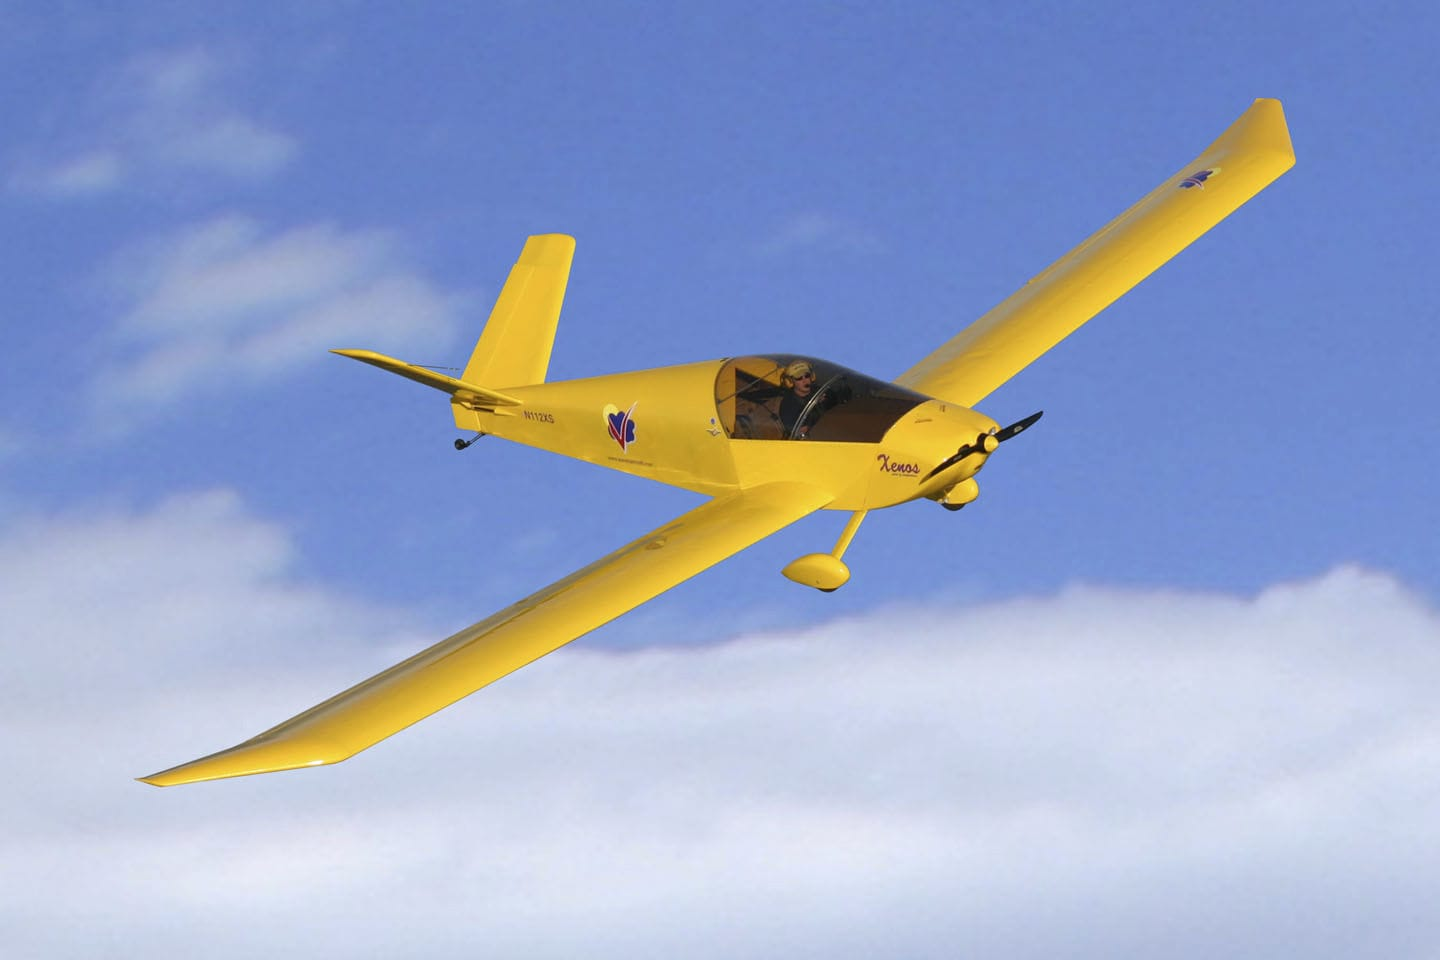Aeronef_de_loisir: (121, 61, 1327, 844)
